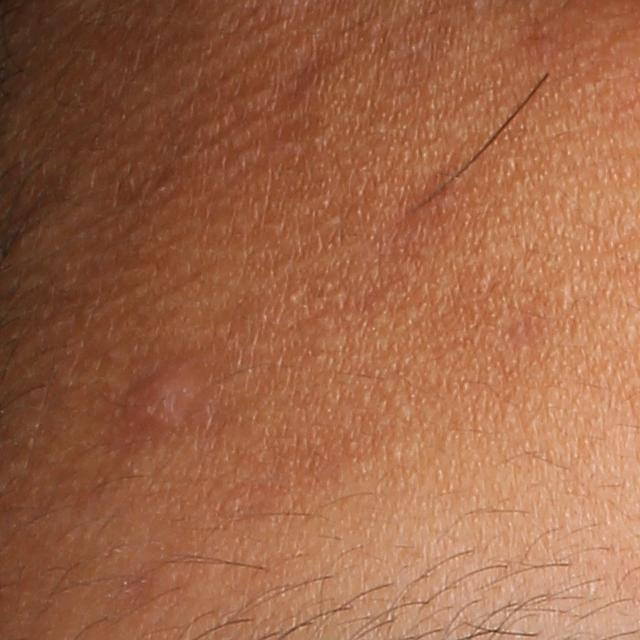comedo: (552, 280, 577, 309)
hypertrophic_scar: (119, 367, 211, 446)
